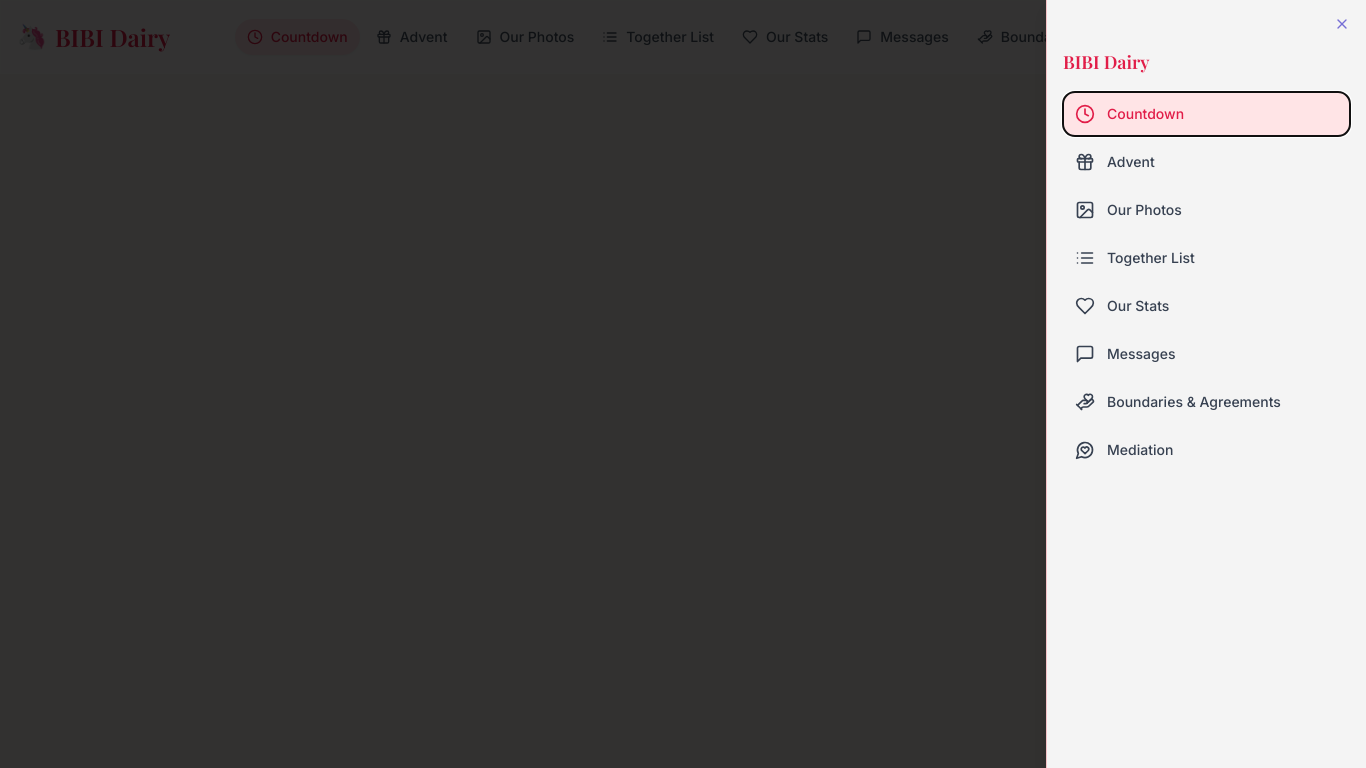
Test: Navigation mobile menu › opens a menu listing every section and switches sections
Earlier steps of the test are not shown.
Check: the button "Boundaries & Agreements" is shown, box top-left (1063, 380), bottom-right (1350, 424)
Click the button "Our Photos". click: {"x": 1144, "y": 210}
box: top-left (1063, 188), bottom-right (1350, 232)
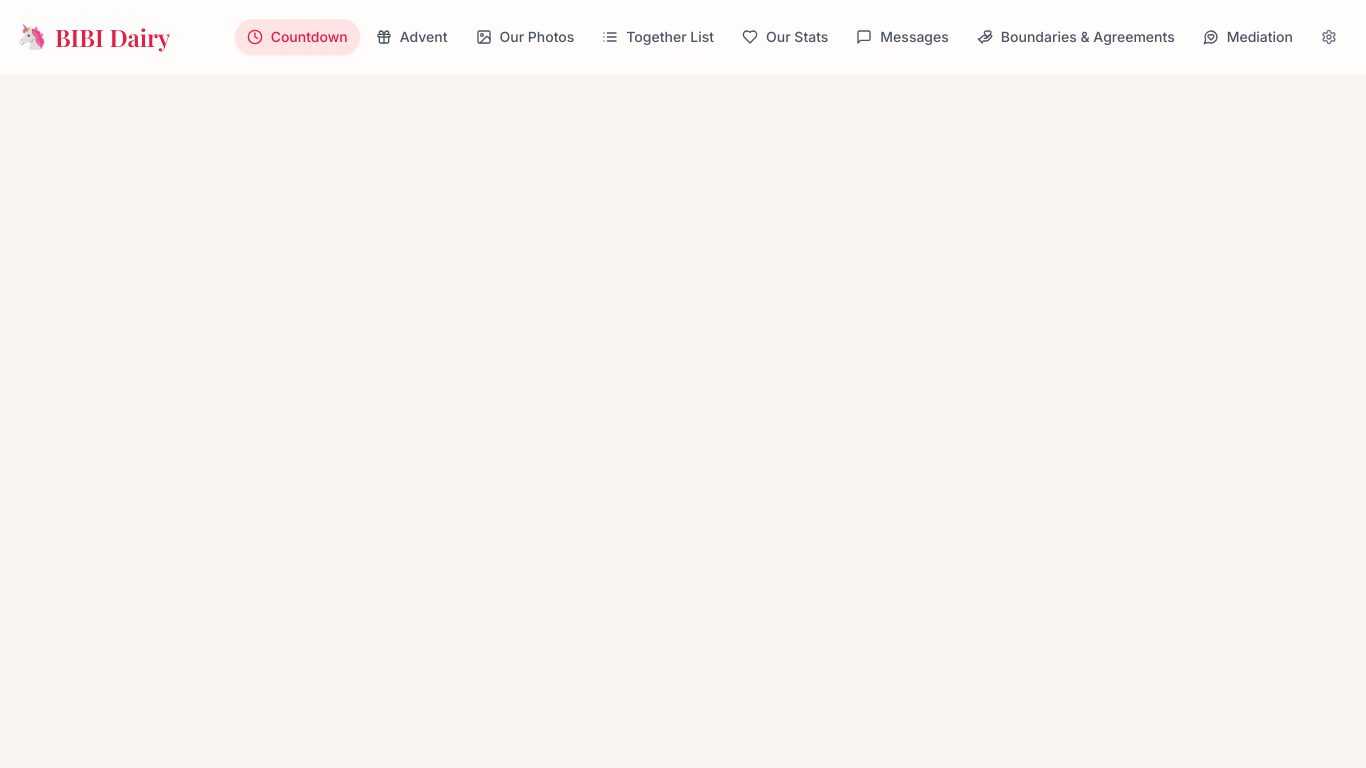
Check: the dialog is gone
